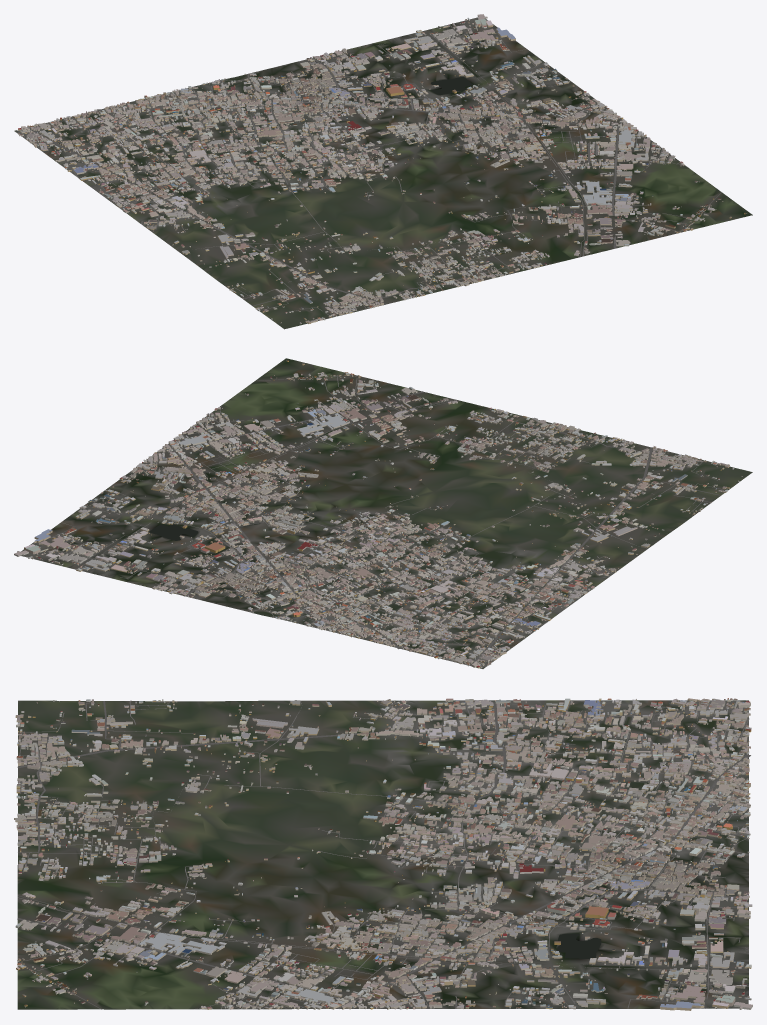
3 renders of one model, top to bottom at view 1: azimuth 30°, elevation 25°; view 2: azimuth 150°, elevation 25°; view 3: azimuth 270°, elevation 25°, orthographic. The views are drawn at different scales.
Parts seen in each view (by area): view 1: ground, buildings, roads; view 2: ground, buildings, roads; view 3: ground, buildings, roads, water.
Part boxes in pixels (box(x1,y1,x2,y2)): ground: box(14, 17, 752, 329); buildings: box(17, 14, 746, 323); roads: box(20, 24, 721, 320); ground: box(20, 358, 752, 668); buildings: box(14, 360, 742, 668); roads: box(34, 373, 737, 666); ground: box(17, 700, 748, 1009); buildings: box(14, 698, 752, 1010); roads: box(17, 700, 750, 1009); water: box(557, 933, 601, 958).
Bounding box in the file's own units: 2825 × 27.48 × 2831.
